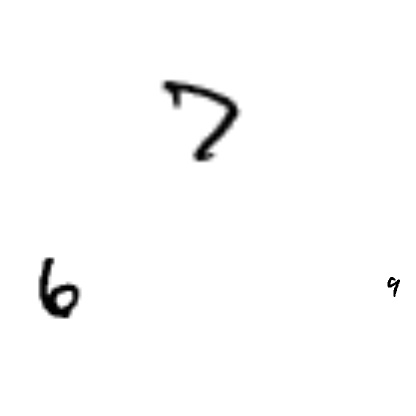1: (46, 127, 102, 183)
7: (52, 240, 164, 352)
8: (288, 89, 316, 117)
Bag: (122, 118, 178, 174)
Coat: (79, 181, 107, 209)
Shirt: (251, 81, 279, 109)
T-shirt/top: (97, 108, 111, 122)
Trouser: (115, 11, 171, 67)
